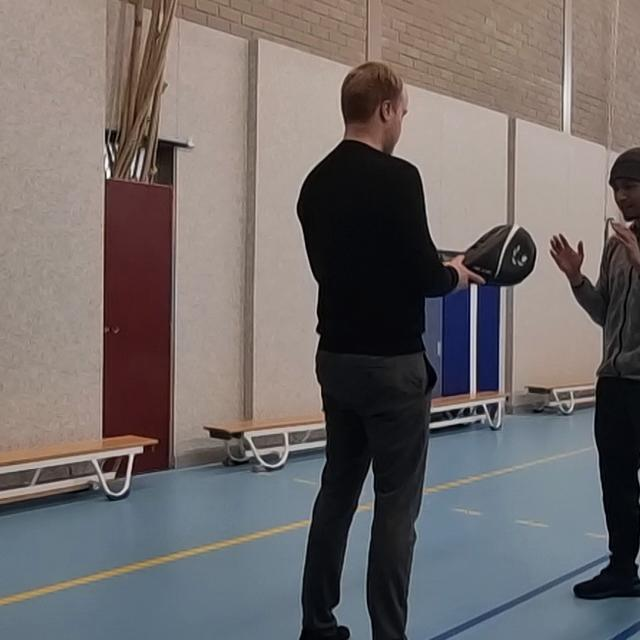paddle: (396, 110, 514, 176)
